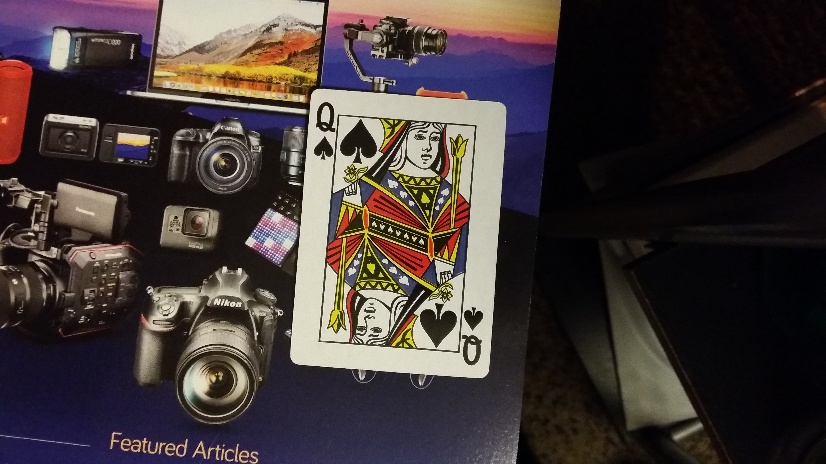Sq: (462, 301, 487, 368), (313, 98, 338, 163)
